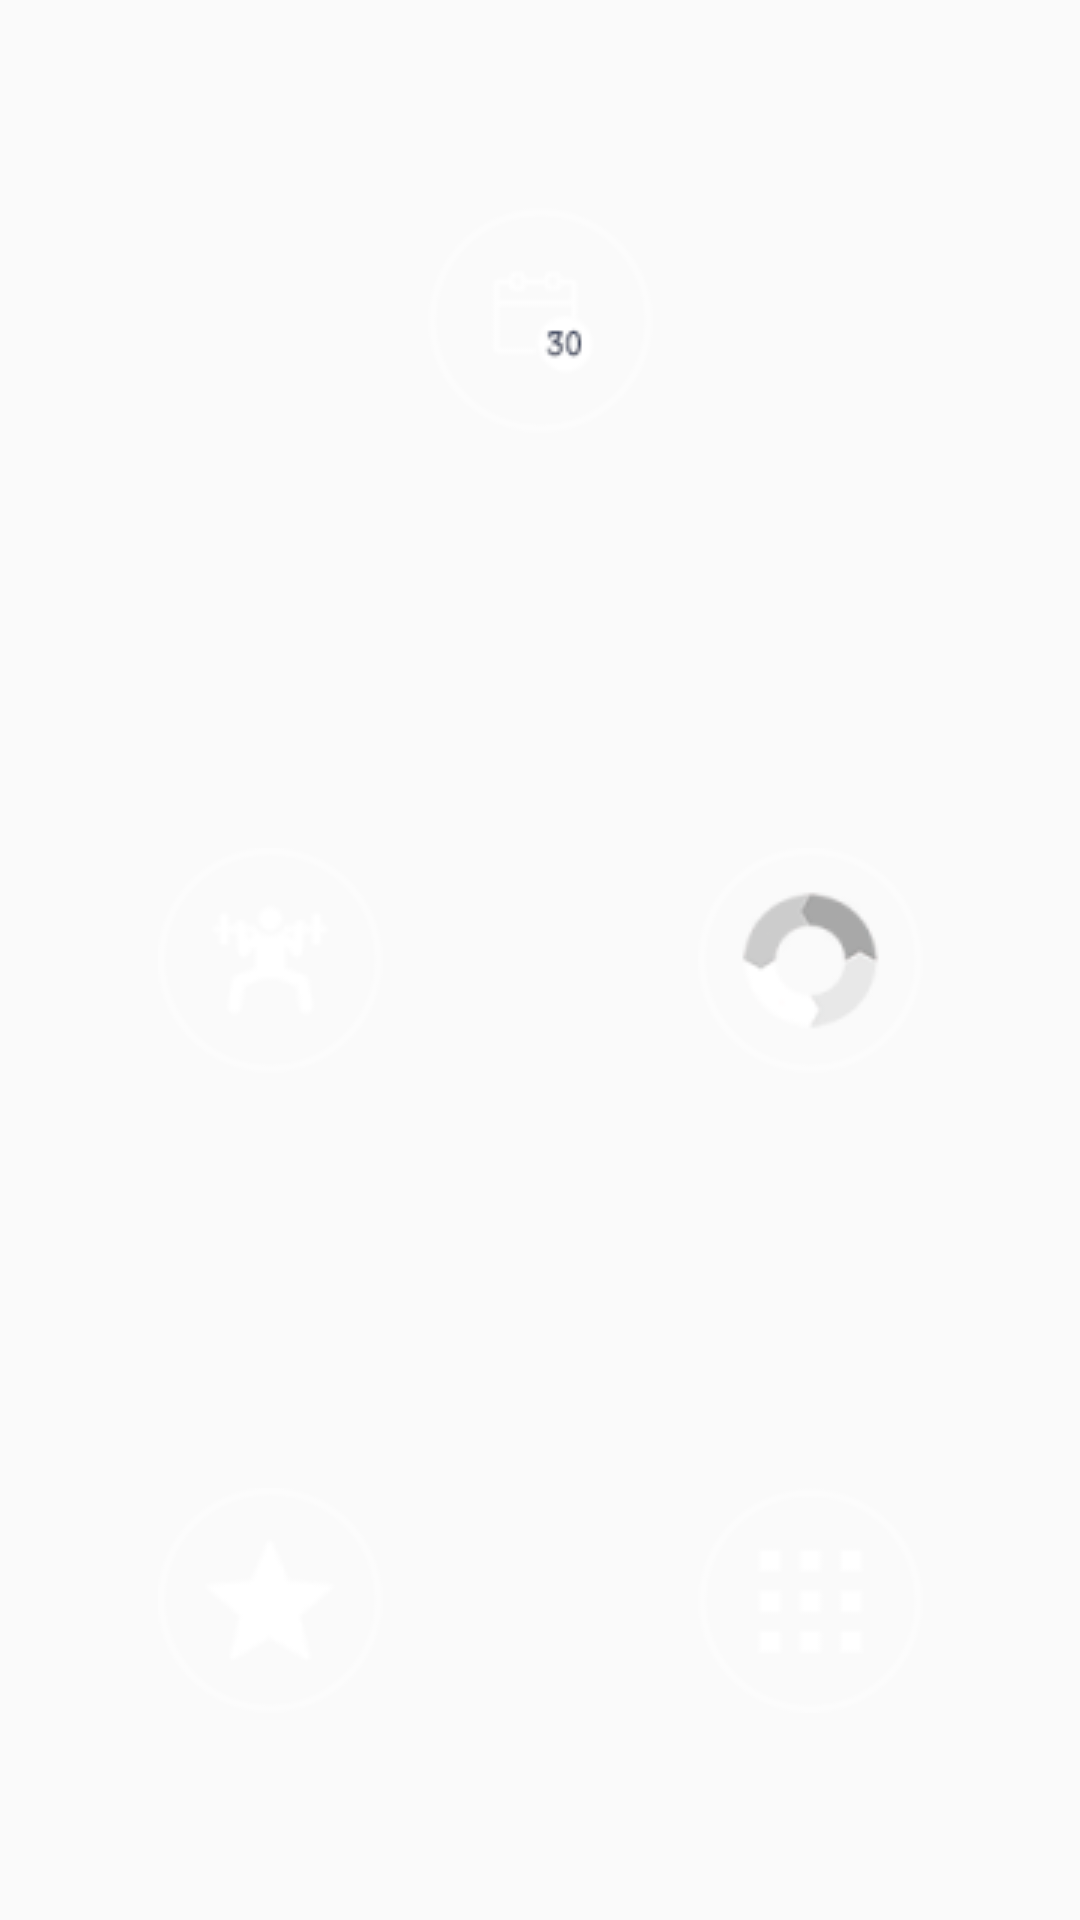

Locate icon controls on the screen. Image size 1080 x 1920, boxes as (x1, y1, x2, y2).
progress: (743, 893, 878, 968)
